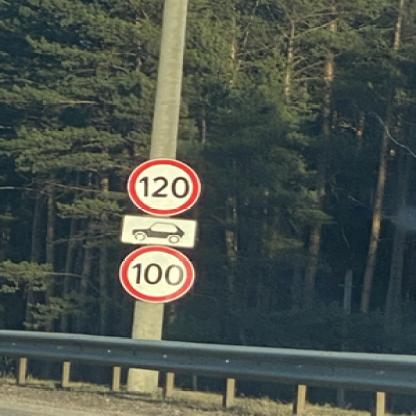Speed Limit 100: (123, 246, 193, 305)
Speed Limit 120: (127, 157, 200, 217)
